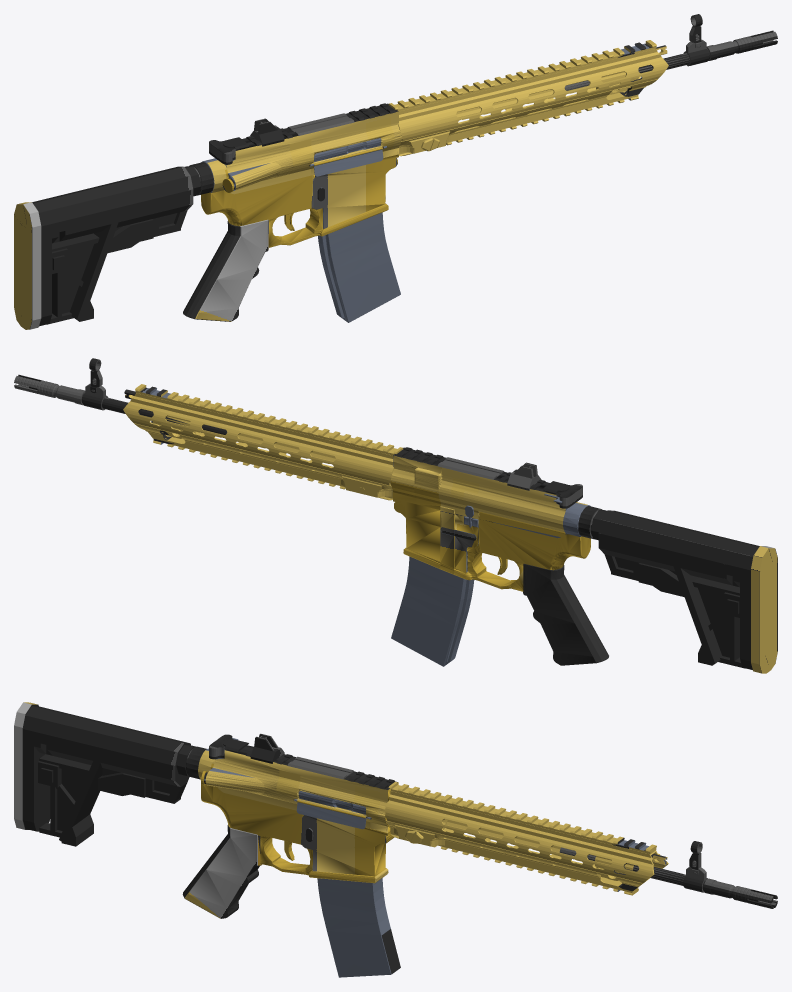
Rendered from medium_lunatic_rifle.obj.
3 views of the same model, one above another, from view 1: azimuth 30°, elevation 25°; view 2: azimuth 150°, elevation 25°; view 3: azimuth 330°, elevation 25° (orthographic).
Parts seen in each view (by area): view 1: Reciever_Mesh_0, Stock_stock_stock_thing.000, Barrel_and_grip_Upper_reciever_low_Low_0, Rear_sights_Cylinder; view 2: Reciever_Mesh_0, Stock_stock_stock_thing.000, Barrel_and_grip_Upper_reciever_low_Low_0, Rear_sights_Cylinder; view 3: Reciever_Mesh_0, Barrel_and_grip_Upper_reciever_low_Low_0, Stock_stock_stock_thing.000, Rear_sights_Cylinder.
Boxes of the visible parts, x1,y1,x2,y2 form: Reciever_Mesh_0: [183, 103, 401, 322]; Stock_stock_stock_thing.000: [14, 166, 200, 329]; Barrel_and_grip_Upper_reciever_low_Low_0: [388, 14, 777, 156]; Rear_sights_Cylinder: [250, 118, 284, 146]; Reciever_Mesh_0: [390, 447, 608, 666]; Stock_stock_stock_thing.000: [591, 510, 777, 673]; Barrel_and_grip_Upper_reciever_low_Low_0: [14, 358, 403, 500]; Rear_sights_Cylinder: [507, 462, 541, 490]; Reciever_Mesh_0: [182, 734, 400, 977]; Barrel_and_grip_Upper_reciever_low_Low_0: [384, 781, 777, 908]; Stock_stock_stock_thing.000: [14, 702, 195, 846]; Rear_sights_Cylinder: [250, 733, 284, 763].
Bounding box in the file's own units: 18.31 × 5.08 × 1.11.
